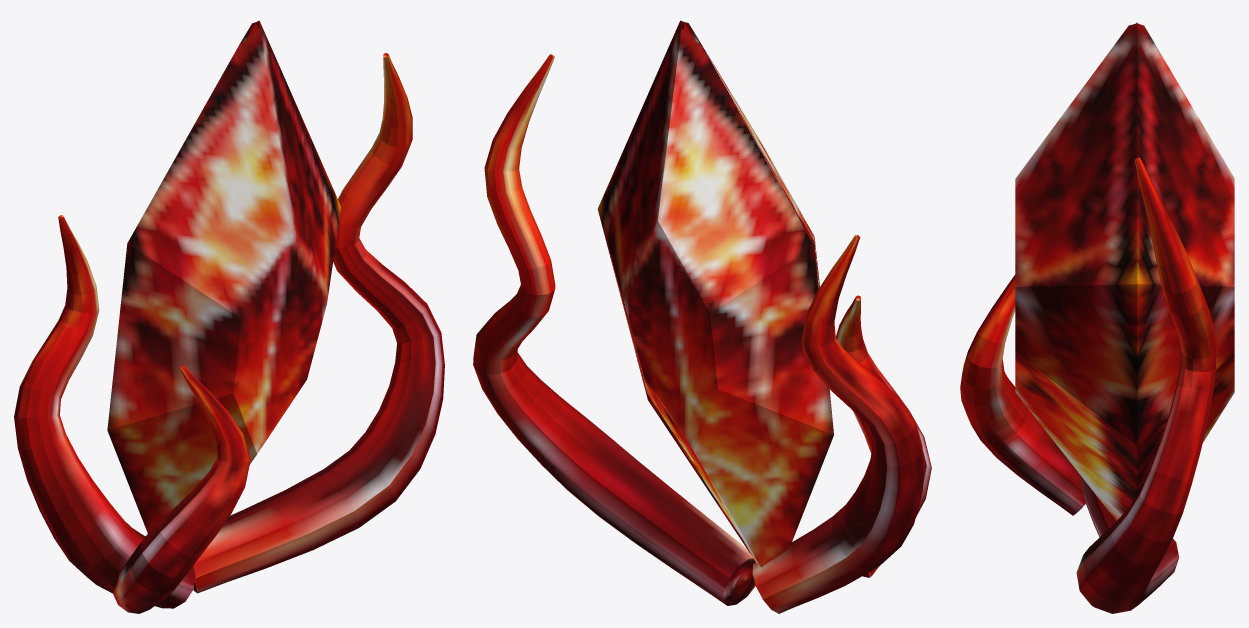
File: fire.obj
The picture shows the model from 3 angles, left to right: view 1: azimuth 30°, elevation 25°; view 2: azimuth 150°, elevation 25°; view 3: azimuth 270°, elevation 25°; orthographic projection. The views are drawn at different scales.
Parts seen in each view (by area): view 1: central_crystal, right_flame, left_flame, front_flame; view 2: central_crystal, right_flame, left_flame, front_flame; view 3: central_crystal, right_flame, front_flame, left_flame.
Boxes of the visible parts, x1=… form: central_crystal: x1=107, y1=20, x2=340, y2=533; right_flame: x1=193, y1=53, x2=444, y2=593; left_flame: x1=14, y1=215, x2=195, y2=608; front_flame: x1=113, y1=365, x2=250, y2=613; central_crystal: x1=597, y1=20, x2=833, y2=567; right_flame: x1=473, y1=54, x2=755, y2=605; left_flame: x1=752, y1=234, x2=924, y2=613; front_flame: x1=835, y1=295, x2=931, y2=577; central_crystal: x1=1015, y1=23, x2=1234, y2=520; right_flame: x1=1076, y1=157, x2=1216, y2=613; front_flame: x1=960, y1=275, x2=1086, y2=515; left_flame: x1=1081, y1=476, x2=1116, y2=537.
Bounding box in the file's own units: 85.93 × 109 × 44.98.
Materials: 1 (1 with a texture image).
